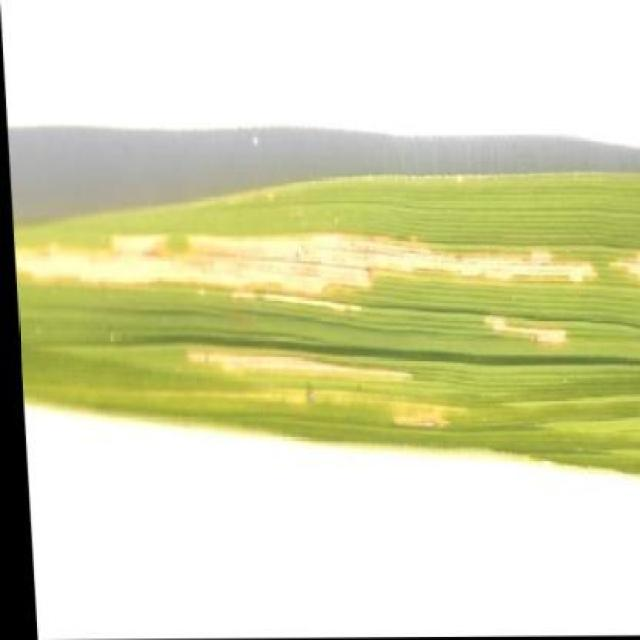Brown_Spot: (18, 136, 638, 469)
